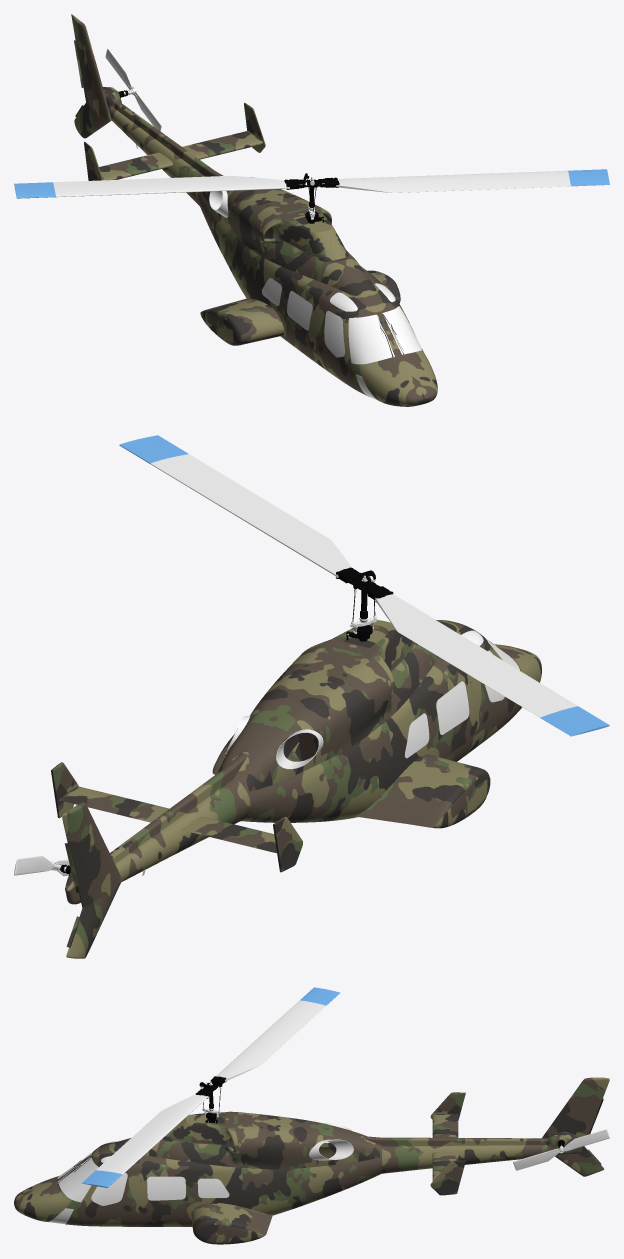
The model's file is cacac.FBX.
3 renders of one model, top to bottom at view 1: azimuth 30°, elevation 25°; view 2: azimuth 150°, elevation 25°; view 3: azimuth 270°, elevation 25°, orthographic. The views are drawn at different scales.
Parts seen in each view (by area): view 1: ArchM73_11_ (×4); view 2: ArchM73_11_ (×4); view 3: ArchM73_11_ (×4).
Boxes of the visible parts, box(x1,y1,x2,y2) form: ArchM73_11_ (×4): box(14, 14, 609, 406); ArchM73_11_ (×4): box(14, 435, 609, 958); ArchM73_11_ (×4): box(14, 987, 609, 1244).
Bounding box in the file's own units: 9032 × 2893 × 11357.
Materials: 9 (1 with a texture image).
